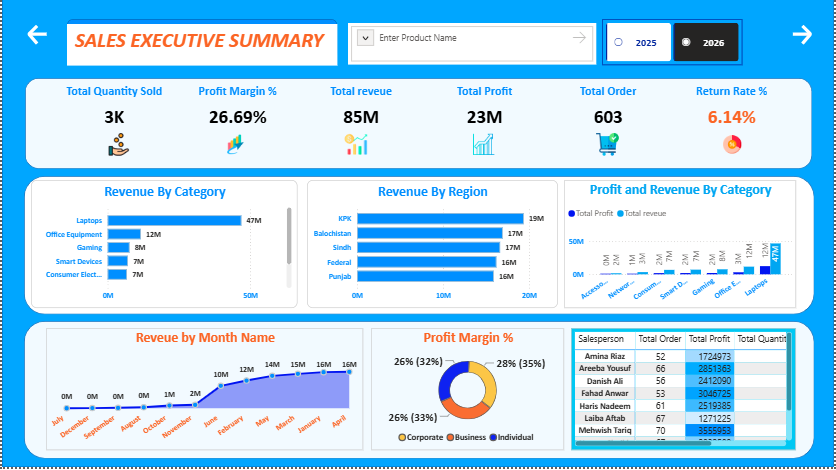

What the dashboard file says about the page in this screenshot:
{"tool":"powerbi","page":{"name":"Executive Summary","canvas":[1280,720],"ordinal":1},"visuals":[{"type":"shape","box":[0,0,1279.7,720.3],"z":0},{"type":"shape","box":[100.3,30.4,415.8,61.7],"z":0,"group":"g1"},{"type":"cardVisual","fields":{"Data":["Measures_1.Total quantity Sold","Measures_1.Profit Margin %","Measures_1.Total reveue","Measures_1.Total Profit","Measures_1.total Order","Measures_1.Return Rate %"]},"box":[66.2,95.6,1166.7,139.1],"z":0,"group":"g3"},{"type":"textbox","box":[100,37.7,415.8,64.1],"z":1000,"group":"g1"},{"type":"image","box":[142.5,207.1,73.4,34.8],"z":1000,"group":"g3"},{"type":"shape","box":[33.3,272.5,1215.9,213],"z":1000},{"type":"shape","box":[36,121,1211,139.7],"z":2000},{"type":"image","box":[900,206.5,63.4,34.6],"z":2000,"group":"g3"},{"type":"group","id":"g1","title":"Group 1","box":[100,30.4,416.1,71.4],"z":3000,"group":"g2"},{"type":"image","box":[707.5,207.1,67.5,34.8],"z":3000,"group":"g3"},{"type":"shape","box":[33.3,495.7,1215.9,211.6],"z":3000},{"type":"group","id":"g2","title":"Group 2","box":[100,30.4,416.1,71.4],"z":4000},{"type":"image","box":[327.4,207.1,63.1,34.8],"z":4000,"group":"g3"},{"type":"group","id":"g3","title":"Group 3","box":[66.2,95.6,1166.7,146.3],"z":5000},{"type":"image","box":[516.7,207.1,54.3,34.8],"z":5000,"group":"g3"},{"type":"image","box":[1090.5,207.1,64.6,34.8],"z":6000,"group":"g3"},{"type":"clusteredBarChart","title":" Revenue By Category","fields":{"Category":["Dim_Product.Category"],"Y":["Measures_1.Total reveue"]},"box":[44.9,278.3,410.1,197.1],"z":6000},{"type":"clusteredBarChart","title":" Revenue By Region","fields":{"Y":["Measures_1.Total reveue"],"Category":["Dim_Location.Region"]},"box":[469.6,278.3,385.5,197.1],"z":7000},{"type":"clusteredColumnChart","title":"Profit and Revenue By Category","fields":{"Category":["Dim_Product.Category"],"Y":["Measures_1.Total Profit","Measures_1.Total reveue"]},"box":[865.2,278.3,356.5,197.1],"z":8000},{"type":"areaChart","title":" Reveue by Month Name","fields":{"Y":["Measures_1.Total reveue"],"Category":["Calender_Table.Month Name"]},"box":[68.1,505.8,488.4,188.4],"z":9000},{"type":"donutChart","title":"Profit Margin % ","fields":{"Y":["Measures_1.Profit Margin %"],"Category":["Dim-Customer.Customer Segment"]},"box":[568.1,505.8,297.1,188.4],"z":10000},{"type":"pivotTable","fields":{"Rows":["Dim_SalesPerson.Salesperson"],"Values":["Measures_1.total Order","Measures_1.Total Profit","Measures_1.Total quantity Sold","Measures_1.Total reveue"]},"box":[875.4,505.8,346.4,188.4],"z":11000},{"type":"advancedSlicerVisual","fields":{"Values":["Calender_Table.Year"]},"box":[923.2,30.4,216.1,71.4],"z":12000},{"type":"textSlicer","fields":{"Values":["Dim_Product.Product Name"]},"box":[532.1,37.5,382.1,64.3],"z":13000},{"type":"actionButton","box":[35.7,35.7,100,39.3],"z":14000},{"type":"actionButton","box":[1210.7,35.7,66.1,39.3],"z":14001}]}

Visuals, with their boxes in screenshot pixels (x1, y1, x2, y2), scaled from the page's 1280x720 canvas onto the 836x470 screenshot:
shape: bbox(0, 0, 835, 469)
shape: bbox(66, 20, 337, 60)
cardVisual - Measures_1.Total quantity Sold x Measures_1.Profit Margin %: bbox(43, 62, 805, 153)
textbox: bbox(65, 25, 337, 66)
image: bbox(93, 135, 141, 158)
shape: bbox(22, 178, 816, 317)
shape: bbox(24, 79, 814, 170)
image: bbox(588, 135, 629, 157)
"Group 1" group: bbox(65, 20, 337, 66)
image: bbox(462, 135, 506, 158)
shape: bbox(22, 324, 816, 462)
"Group 2" group: bbox(65, 20, 337, 66)
image: bbox(214, 135, 255, 158)
"Group 3" group: bbox(43, 62, 805, 158)
image: bbox(337, 135, 373, 158)
image: bbox(712, 135, 754, 158)
" Revenue By Category" clusteredBarChart: bbox(29, 182, 297, 310)
" Revenue By Region" clusteredBarChart: bbox(307, 182, 558, 310)
"Profit and Revenue By Category" clusteredColumnChart: bbox(565, 182, 798, 310)
" Reveue by Month Name" areaChart: bbox(44, 330, 363, 453)
"Profit Margin % " donutChart: bbox(371, 330, 565, 453)
pivotTable - Dim_SalesPerson.Salesperson x Measures_1.total Order: bbox(572, 330, 798, 453)
advancedSlicerVisual - Calender_Table.Year: bbox(603, 20, 744, 66)
textSlicer - Dim_Product.Product Name: bbox(348, 24, 597, 66)
actionButton: bbox(23, 23, 89, 49)
actionButton: bbox(791, 23, 834, 49)
